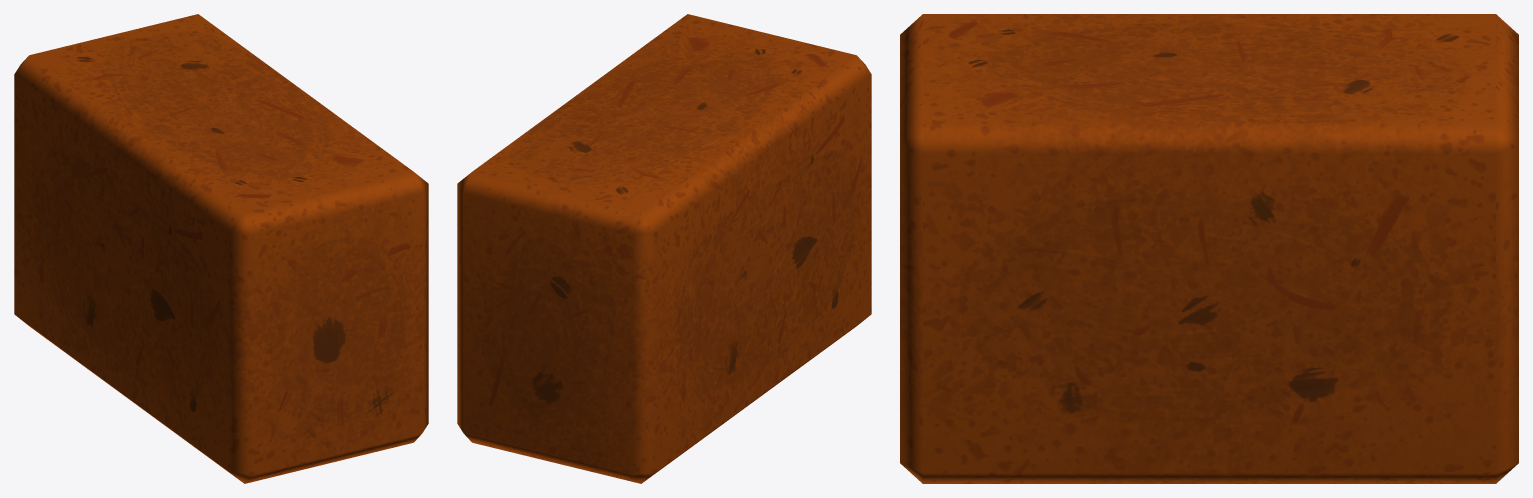
Rendered from MarinatedTofu.gltf.
The picture shows the model from 3 angles, left to right: view 1: azimuth 30°, elevation 25°; view 2: azimuth 150°, elevation 25°; view 3: azimuth 270°, elevation 25°; orthographic projection. The views are drawn at different scales.
Parts seen in each view (by area): view 1: Tofu2; view 2: Tofu2; view 3: Tofu2.
Part boxes in pixels (x1,y1,x2,y2): Tofu2: (14,14,428,483); Tofu2: (457,14,871,483); Tofu2: (900,14,1518,483).
Bounding box in the file's own units: 0.0586 × 0.0763 × 0.1188.
1 material, 1 textured.
